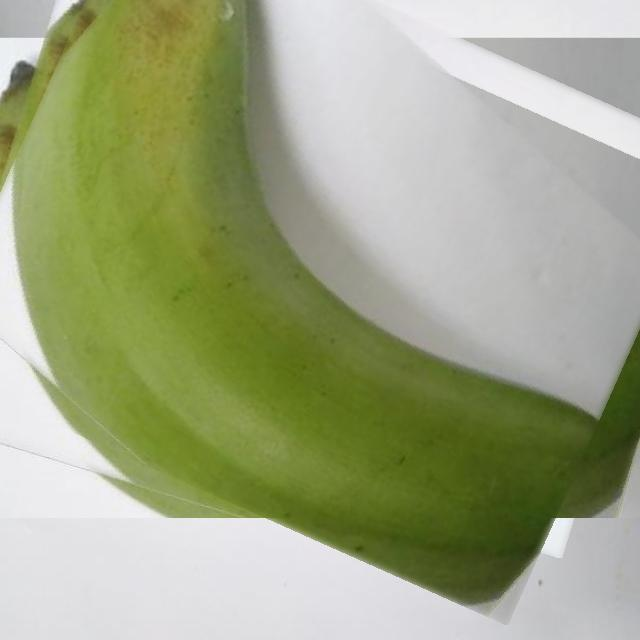Verde: (0, 0, 640, 571)
